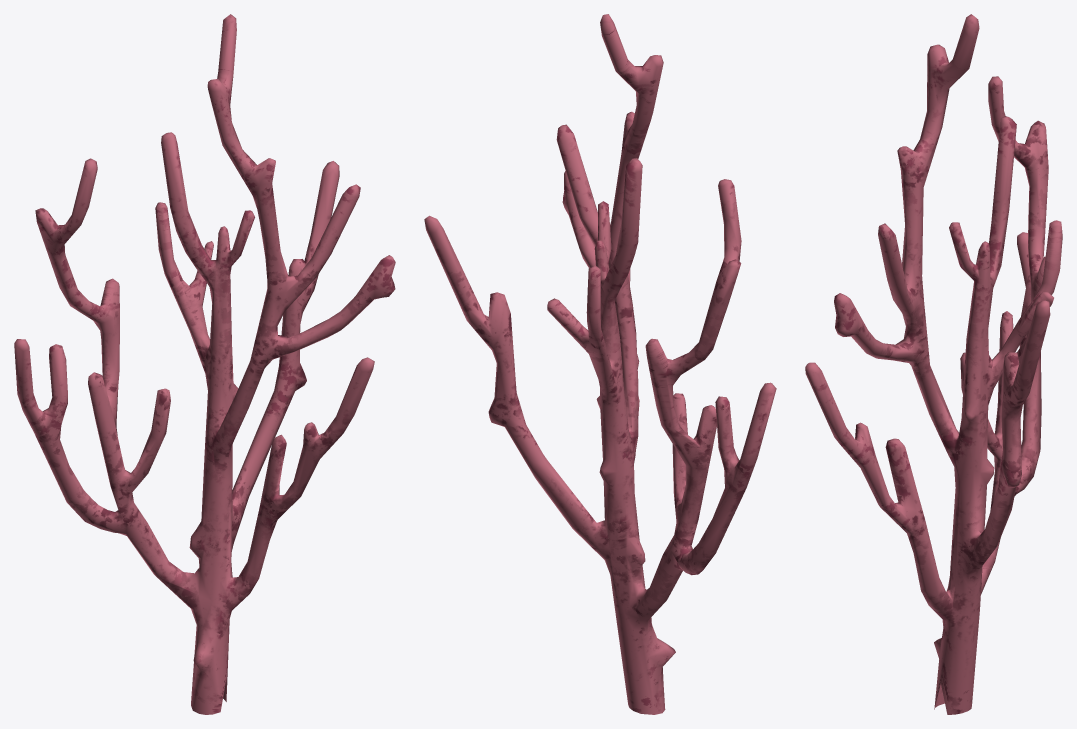
The model's file is seaRod02a.fbx.
3 views of the same model, side by side, from view 1: azimuth 30°, elevation 25°; view 2: azimuth 150°, elevation 25°; view 3: azimuth 270°, elevation 25° (orthographic). The views are drawn at different scales.
Visible parts, largest first — view 1: seaRod02a; view 2: seaRod02a; view 3: seaRod02a.
Boxes of the visible parts, <box> form: seaRod02a: <box>14,14,395,714</box>; seaRod02a: <box>424,14,776,714</box>; seaRod02a: <box>805,14,1062,714</box>.
Bounding box in the file's own units: 0.2521 × 0.4913 × 0.1612.
